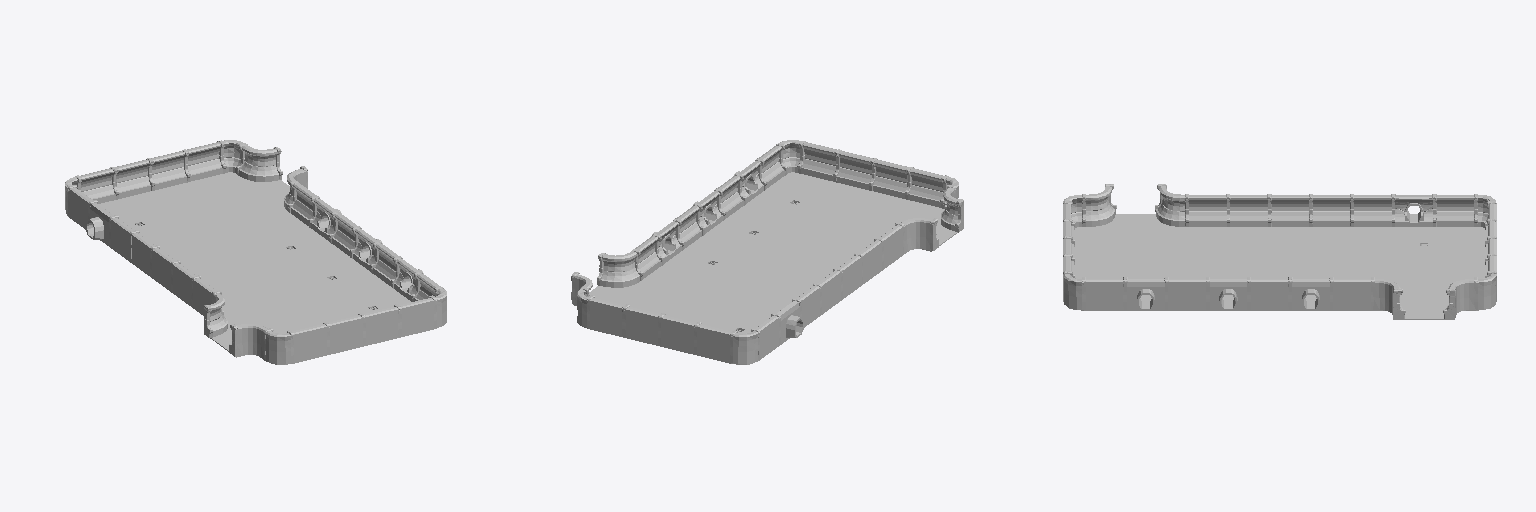
The model's file is DungeonRoom_22.obj.
The picture shows the model from 3 angles: view 1: azimuth 30°, elevation 25°; view 2: azimuth 150°, elevation 25°; view 3: azimuth 270°, elevation 25°; orthographic projection.
Parts seen in each view (by area): view 1: DungeonRoom_22; view 2: DungeonRoom_22; view 3: DungeonRoom_22.
Part boxes in pixels (x1,y1,x2,y2): DungeonRoom_22: (65,140,446,364); DungeonRoom_22: (571,140,963,364); DungeonRoom_22: (1063,184,1496,319).
Bounding box in the file's own units: 48.91 × 8.22 × 84.17.